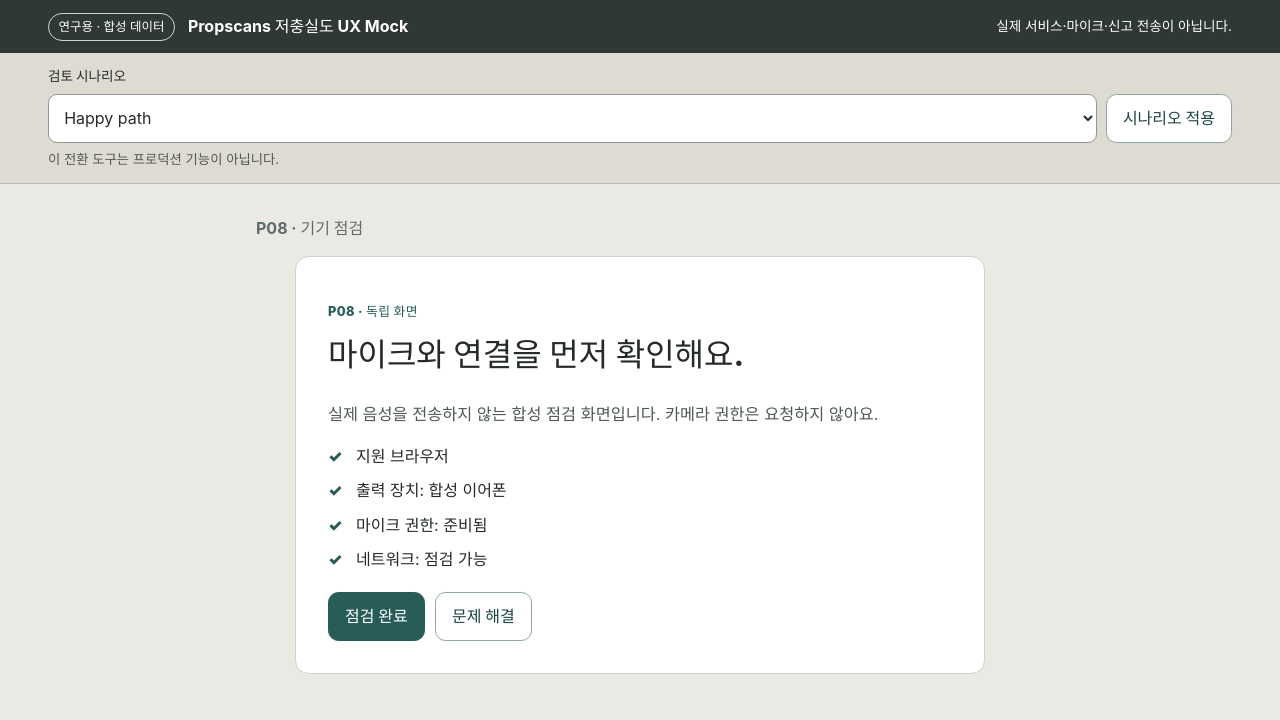
Propscans UX mock › offers resource-specific consent with no prechecked resources
Select "공개 동의 거절" in the dropdown labelled "검토 시나리오" at (573, 118), box x1=48 y1=94 x2=1097 y2=143
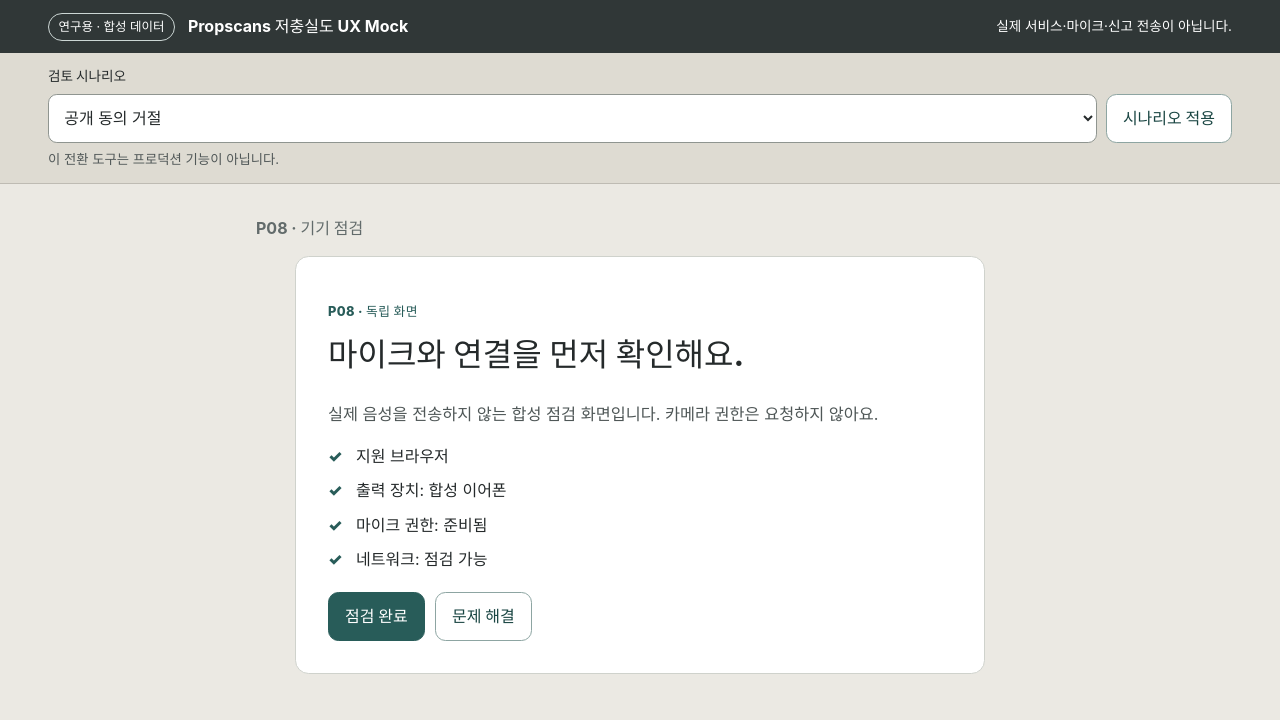
Click the button "시나리오 적용" at (1169, 118), box x1=1106 y1=94 x2=1232 y2=143
(page scrolled)
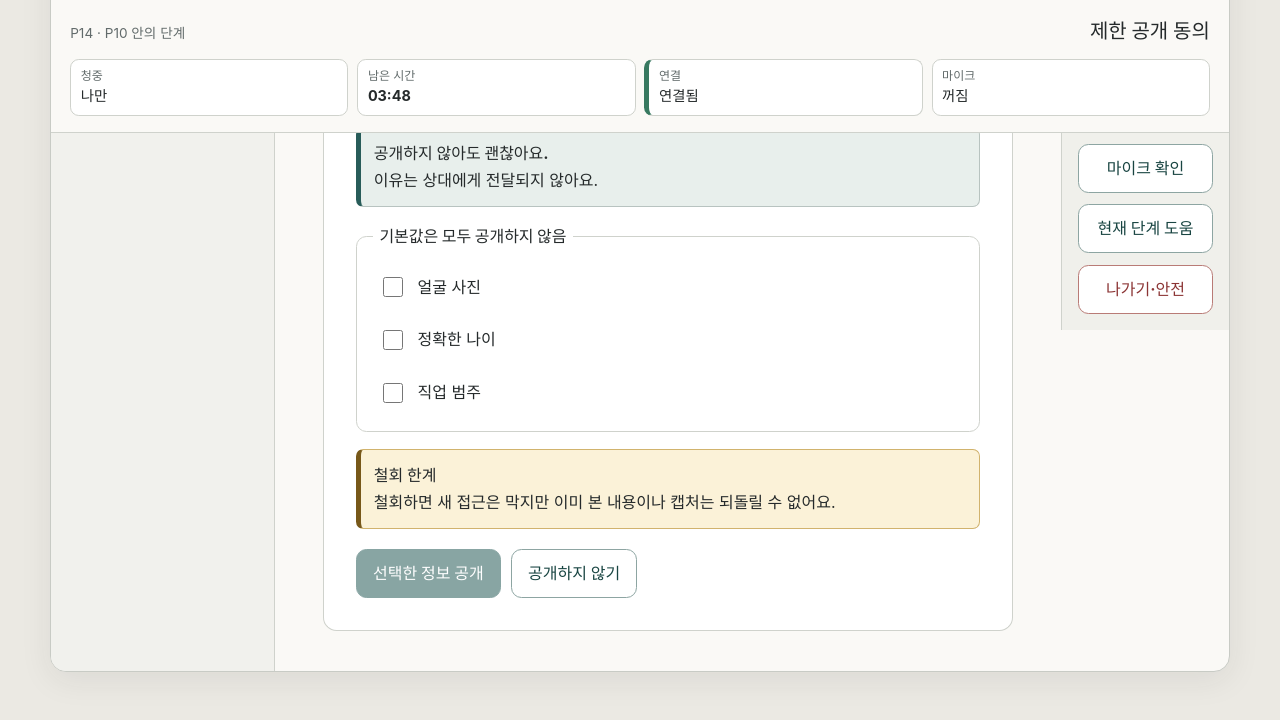
Expected: the number of checkboxes is 3, x1=383 y1=277 x2=403 y2=297; x1=383 y1=330 x2=403 y2=350; x1=383 y1=382 x2=403 y2=402
Expected: the checkbox labelled "얼굴 사진" is not checked, x1=383 y1=277 x2=403 y2=297
Expected: the checkbox labelled "정확한 나이" is not checked, x1=383 y1=330 x2=403 y2=350
